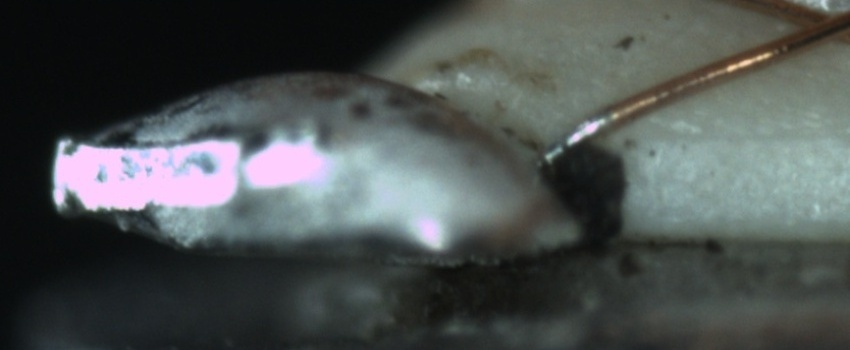CL: (778, 1, 849, 47)
DL: (666, 103, 849, 171)
TS: (541, 111, 614, 163)
